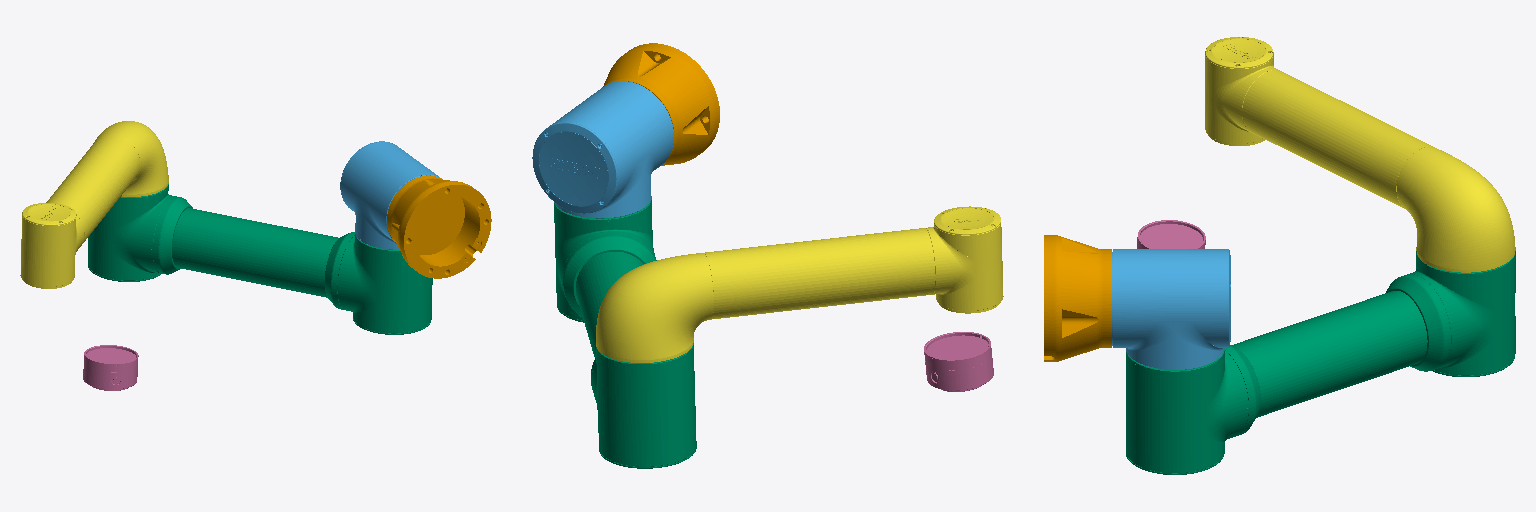
URDF robot description (ZARM):
<?xml version='1.0' encoding='utf-8'?>
<robot name="ZARM">
    <link name="base">
        <inertial>
            <origin xyz="-0.0003189601357700431 0.04246343311531694 0.00029674415273840254" rpy="0.0 0.0 0.0" />
            <mass value="4.705645950009914" />
            <inertia ixx="0.008965167514915787" iyy="0.013144088815807984" izz="0.00896220397400922" ixy="-5.615675967711483e-05" iyz="5.209390822041695e-05" ixz="-4.463642367439582e-05" />
        </inertial>
        <visual name="base_visual">
            <origin xyz="0.0 0.0 0.0" rpy="0.0 0.0 0.0" />
            <geometry>
                <mesh filename="meshes/base.stl" scale="0.001 0.001 0.001" />
            </geometry>
        </visual>
        <collision name="base_collision">
            <origin xyz="0.0 0.0 0.0" rpy="0.0 0.0 0.0" />
            <geometry>
                <mesh filename="meshes/base.stl" scale="0.001 0.001 0.001" />
            </geometry>
        </collision>
    </link>
    <link name="link1">
        <inertial>
            <origin xyz="-0.00012298754628312498 -0.07230568204912434 0.004089362588951931" rpy="0.0 -4.79403658721721e-94 0.0" />
            <mass value="12.729168971444414" />
            <inertia ixx="0.03249811056384844" iyy="0.023787665964838545" izz="0.03155614568957221" ixy="-8.62990491659542e-06" iyz="0.0002964793244333453" ixz="2.8407207632412597e-05" />
        </inertial>
        <visual name="link1_visual">
            <origin xyz="6.039626857760801e-16 0.07399999999999739 8.94118872331725e-18" rpy="-9.446250027071605e-18 0.030143679253007323 3.141592653589785" />
            <geometry>
                <mesh filename="meshes/link1.stl" scale="0.001 0.001 0.001" />
            </geometry>
        </visual>
        <collision name="link1_collision">
            <origin xyz="6.039626857760801e-16 0.07399999999999739 8.94118872331725e-18" rpy="-9.446250027071605e-18 0.030143679253007323 3.141592653589785" />
            <geometry>
                <mesh filename="meshes/link1.stl" scale="0.001 0.001 0.001" />
            </geometry>
        </collision>
    </link>
    <link name="link2">
        <inertial>
            <origin xyz="-0.12938125913416929 0.07068099692677664 0.17023019528536282" rpy="0.0 -0.0 5.70164662151753e-90" />
            <mass value="42.003388656581045" />
            <inertia ixx="0.8794711976278995" iyy="1.3057111441090292" izz="0.5271697384262679" ixy="-0.012864112532715799" iyz="0.01794052559849102" ixz="0.5949894577840882" />
        </inertial>
        <visual name="link2_visual">
            <origin xyz="-0.374170135026675 -0.07130956305229483 0.2494808222409718" rpy="1.5707963267048342 -0.9291040284315751 -3.1114489742916533" />
            <geometry>
                <mesh filename="meshes/link2.stl" scale="0.001 0.001 0.001" />
            </geometry>
        </visual>
        <collision name="link2_collision">
            <origin xyz="-0.374170135026675 -0.07130956305229483 0.2494808222409718" rpy="1.5707963267048342 -0.9291040284315751 -3.1114489742916533" />
            <geometry>
                <mesh filename="meshes/link2.stl" scale="0.001 0.001 0.001" />
            </geometry>
        </collision>
    </link>
    <link name="link3">
        <inertial>
            <origin xyz="0.13826077271155318 -0.05880211553376769 0.12687048945926968" rpy="0.0 -0.0 1.89748943828066e-33" />
            <mass value="22.416777248750495" />
            <inertia ixx="0.24159800239168072" iyy="0.49704226877850743" izz="0.2870862534702916" ixy="0.024077350982745493" iyz="0.021953866146653032" ixz="-0.23672694489333213" />
        </inertial>
        <visual name="link3_visual">
            <origin xyz="-0.21455529298840292 -0.054558296809787986 -0.3980445247464301" rpy="1.5707963268586258 0.7363454726160165 3.1114489744967453" />
            <geometry>
                <mesh filename="meshes/link3.stl" scale="0.001 0.001 0.001" />
            </geometry>
        </visual>
        <collision name="link3_collision">
            <origin xyz="-0.21455529298840292 -0.054558296809787986 -0.3980445247464301" rpy="1.5707963268586258 0.7363454726160165 3.1114489744967453" />
            <geometry>
                <mesh filename="meshes/link3.stl" scale="0.001 0.001 0.001" />
            </geometry>
        </collision>
    </link>
    <link name="link4">
        <inertial>
            <origin xyz="0.0004695417219919307 0.04399669116990308 -0.0018141884880715508" rpy="0.0 -0.0 -3.964405715902619e-36" />
            <mass value="4.835241847751246" />
            <inertia ixx="0.005806852863032673" iyy="0.006288751872258079" izz="0.005549152791516798" ixy="-5.635088253508337e-05" iyz="8.012535050336286e-05" ixz="0.0011044102794236508" />
        </inertial>
        <visual name="link4_visual">
            <origin xyz="-0.5090965765538882 -0.06857489337398257 -0.6589468582846214" rpy="1.570796326854894 0.7280950742450059 -3.1114489743139275" />
            <geometry>
                <mesh filename="meshes/link4.stl" scale="0.001 0.001 0.001" />
            </geometry>
        </visual>
        <collision name="link4_collision">
            <origin xyz="-0.5090965765538882 -0.06857489337398257 -0.6589468582846214" rpy="1.570796326854894 0.7280950742450059 -3.1114489743139275" />
            <geometry>
                <mesh filename="meshes/link4.stl" scale="0.001 0.001 0.001" />
            </geometry>
        </collision>
    </link>
    <link name="link5">
        <inertial>
            <origin xyz="0.027279975503469486 -0.030979213513281145 -0.0035745636812438164" rpy="0.0 -1.3319784251696569e-36 0.0" />
            <mass value="4.70346131128292" />
            <inertia ixx="0.006359133802106509" iyy="0.006325727302903376" izz="0.004292959984626643" ixy="0.0001422353318394909" iyz="-0.00013708894797449803" ixz="-0.00014030006987975015" />
        </inertial>
        <visual name="link5_visual">
            <origin xyz="-0.5375895685984428 -0.6109327182846239 0.17205851147974166" rpy="3.1214566572034195 -0.088385366164339 -2.4119456283002774" />
            <geometry>
                <mesh filename="meshes/link5.stl" scale="0.001 0.001 0.001" />
            </geometry>
        </visual>
        <collision name="link5_collision">
            <origin xyz="-0.5375895685984428 -0.6109327182846239 0.17205851147974166" rpy="3.1214566572034195 -0.088385366164339 -2.4119456283002774" />
            <geometry>
                <mesh filename="meshes/link5.stl" scale="0.001 0.001 0.001" />
            </geometry>
        </collision>
    </link>
    <link name="link6">
        <inertial>
            <origin xyz="-0.0015829294936049365 0.01903979936968499 -0.0007973046484417879" rpy="0.0 -0.0 0.0" />
            <mass value="1.527601814733012" />
            <inertia ixx="0.0008087107650205094" iyy="0.0012064556218006617" izz="0.0008097733085863372" ixy="-3.125294292727336e-05" iyz="-1.688763574242414e-05" ixz="2.3270491276011765e-06" />
        </inertial>
        <visual name="link6_visual">
            <origin xyz="0.00030097927596585807 -0.0037844007589855444 0.00016652143207302573" rpy="-0.058639226844727686 -0.7261616696985156 0.11832723465374854" />
            <geometry>
                <mesh filename="meshes/link6.stl" scale="0.001 0.001 0.001" />
            </geometry>
        </visual>
        <collision name="link6_collision">
            <origin xyz="0.00030097927596585807 -0.0037844007589855444 0.00016652143207302573" rpy="-0.058639226844727686 -0.7261616696985156 0.11832723465374854" />
            <geometry>
                <mesh filename="meshes/link6.stl" scale="0.001 0.001 0.001" />
            </geometry>
        </collision>
    </link>
    <joint name="base_Joint1" type="revolute">
        <origin xyz="-2.6000054249228464e-33 0.0750000000000006 -1.0408340855861027e-18" rpy="3.141592653589793 -2.775557561563088e-17 -8.04911692853245e-15" />
        <parent link="base" />
        <child link="link1" />
        <axis xyz="-7.703719777568868e-34 -1.0 0.0" />
        <limit lower="-3.054326" upper="3.054326" effort="1000000" velocity="1000000" />
    </joint>
    <joint name="link1_Joint2" type="revolute">
        <origin xyz="-0.0018384900000000001 -0.07799999 0.0609723" rpy="1.5707963267948966 -3.1554436208840472e-30 -1.90178270256059e-30" />
        <parent link="link1" />
        <child link="link2" />
        <axis xyz="-0.030139 0.999546 -5.729461063143603e-32" />
        <limit lower="-1.48353" upper="4.625123" effort="1000000" velocity="1000000" />
    </joint>
    <joint name="link2_Joint3" type="revolute">
        <origin xyz="-0.25426904 -0.00766692 0.34046072000000005" rpy="3.141592653589793 6.729284508864925e-11 3.141592653589793" />
        <parent link="link2" />
        <child link="link3" />
        <axis xyz="-0.03013900000000006 -0.999546 2.0280282495655613e-12" />
        <limit lower="-2.792527" upper="2.792527" effort="1000000" velocity="1000000" />
    </joint>
    <joint name="link3_Joint4" type="revolute">
        <origin xyz="0.2924565500178516 -0.011619660000000032 0.2652826599803198" rpy="3.141592653589793 -6.729284357356881e-11 -3.141592653589793" />
        <parent link="link3" />
        <child link="link4" />
        <axis xyz="-0.03013900000000005 0.9995459999999999 2.666728398291892e-18" />
        <limit lower="-1.48353" upper="4.625123" effort="1000000" velocity="1000000" />
    </joint>
    <joint name="link4_Joint5" type="revolute">
        <origin xyz="0.03725149000000009 0.04994541999999999 -0.043255680000000005" rpy="1.5707963267948966 -1.6761853515925011e-18 1.231760128064773e-32" />
        <parent link="link4" />
        <child link="link5" />
        <axis xyz="0.665147 -0.7464430000000001 -0.020055999999999963" />
        <limit lower="-3.054326" upper="3.054326" effort="1000000" velocity="1000000" />
    </joint>
    <joint name="link5_Joint6" type="revolute">
        <origin xyz="0.025321799999999967 -0.03614034 -0.05886359000000001" rpy="-1.5707963267948966 1.1102230246251565e-16 -3.1912658017593005e-18" />
        <parent link="link5" />
        <child link="link6" />
        <axis xyz="-0.07920599999999994 0.995895 -0.043821" />
        <limit lower="-3.054326" upper="3.054326" effort="1000000" velocity="1000000" />
    </joint>
</robot>

--- What the picture shows (computed from the rendered views, not written in the file) ---
3 views of the same robot in one strip: view 1: azimuth 30°, elevation 25°; view 2: azimuth 150°, elevation 25°; view 3: azimuth 270°, elevation 25° (orthographic).
Model ZARM with 7 links and 6 joints (6 revolute), rooted at base, posed all joints at 0.
Visible links, largest first — view 1: link2, link3, base, link1, link6; view 2: link3, link2, link1, base, link6; view 3: link2, link3, link1, base, link6.
Link boxes in pixels (left/top/right/bottom): link2: left=88, top=184, right=432, bottom=334; link3: left=20, top=121, right=168, bottom=288; base: left=387, top=175, right=491, bottom=278; link1: left=340, top=141, right=441, bottom=249; link6: left=83, top=345, right=138, bottom=390; link3: left=596, top=206, right=1003, bottom=362; link2: left=554, top=198, right=696, bottom=468; link1: left=532, top=81, right=673, bottom=218; base: left=603, top=43, right=719, bottom=165; link6: left=924, top=332, right=993, bottom=391; link2: left=1126, top=251, right=1515, bottom=474; link3: left=1205, top=37, right=1515, bottom=272; link1: left=1112, top=249, right=1230, bottom=369; base: left=1044, top=235, right=1111, bottom=361; link6: left=1137, top=220, right=1205, bottom=248.
Size in the robot's own frame: 0.6629 by 0.5515 by 0.2802 metres.
Meshes: 7 distinct files referenced, 5 mesh visuals loaded (5 binary STL); not drawn: 2 (reference not matched to a file when rendering).
